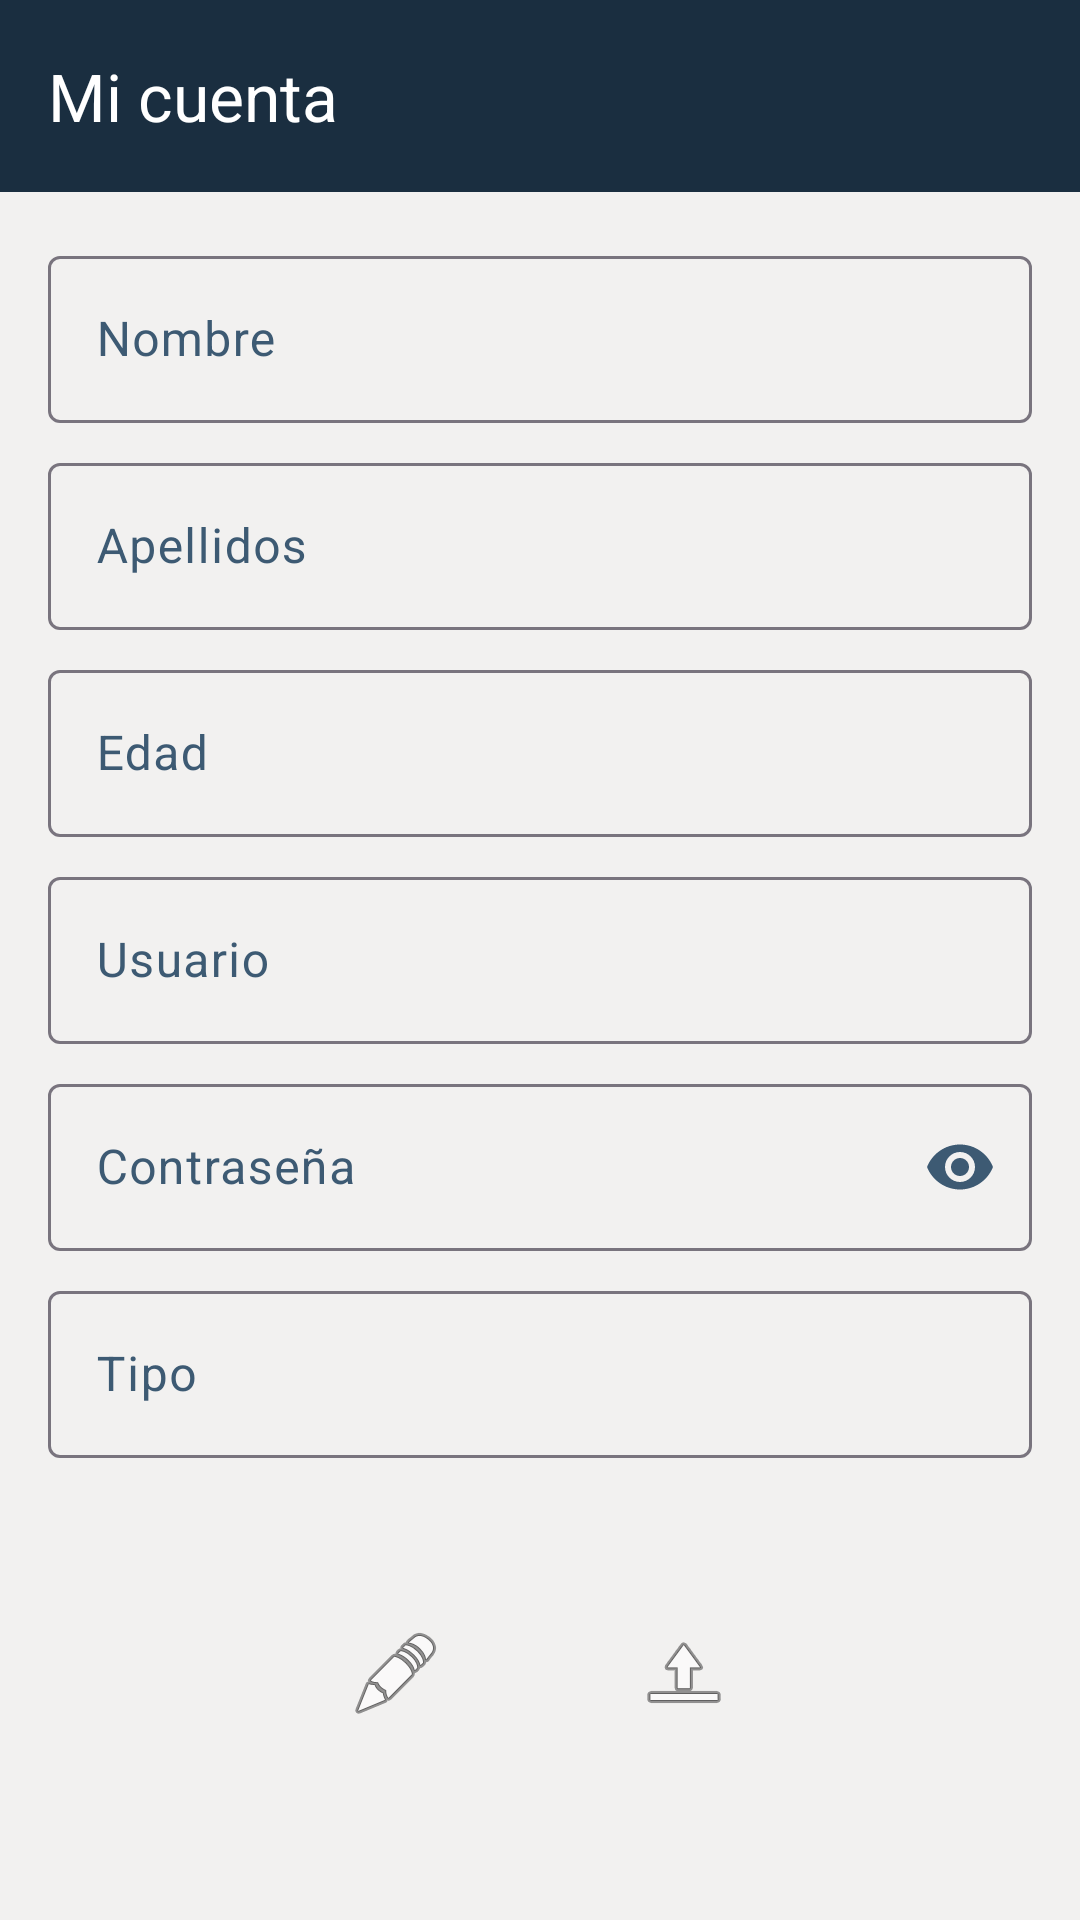

Locate icon controls on the screen. Image size 1080×1920, boxes as rect(x1, y1, x2, y2).
edit: rect(355, 1633, 436, 1714)
upload: rect(647, 1642, 721, 1703)
